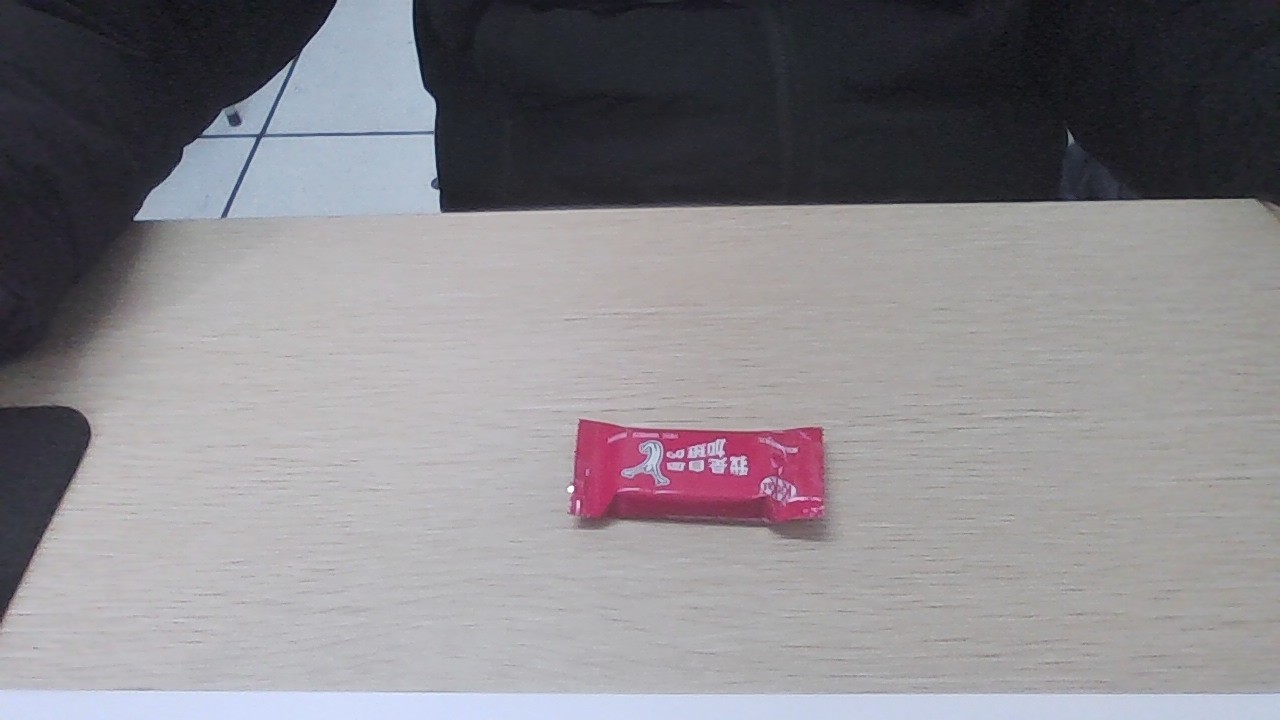CY-chocolate: (568, 424, 820, 524)
